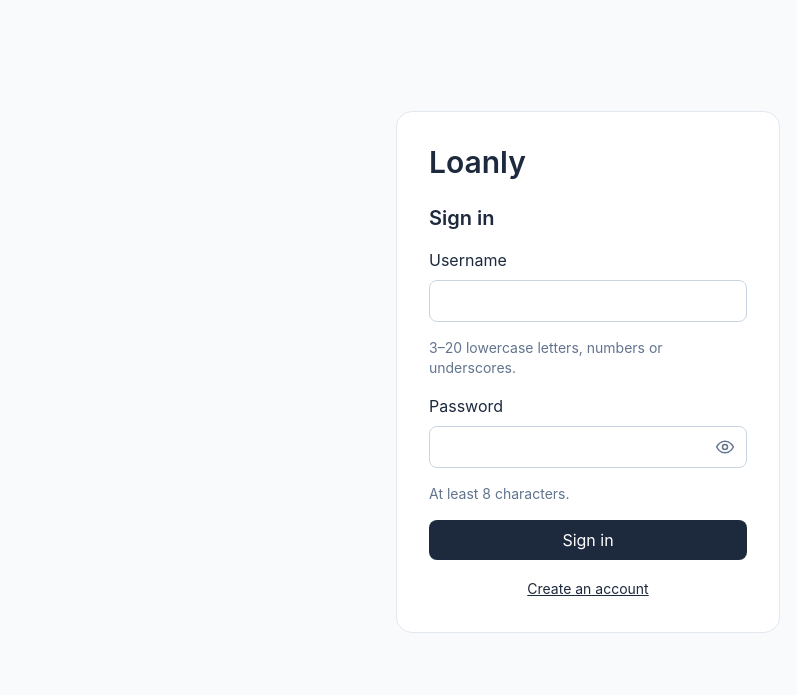
register uses its endpoint, masks passwords, and prevents duplicate submissions while pending
The image size is (797, 695).
Click the button "Create an account" at (588, 589), box [429, 579, 747, 599]
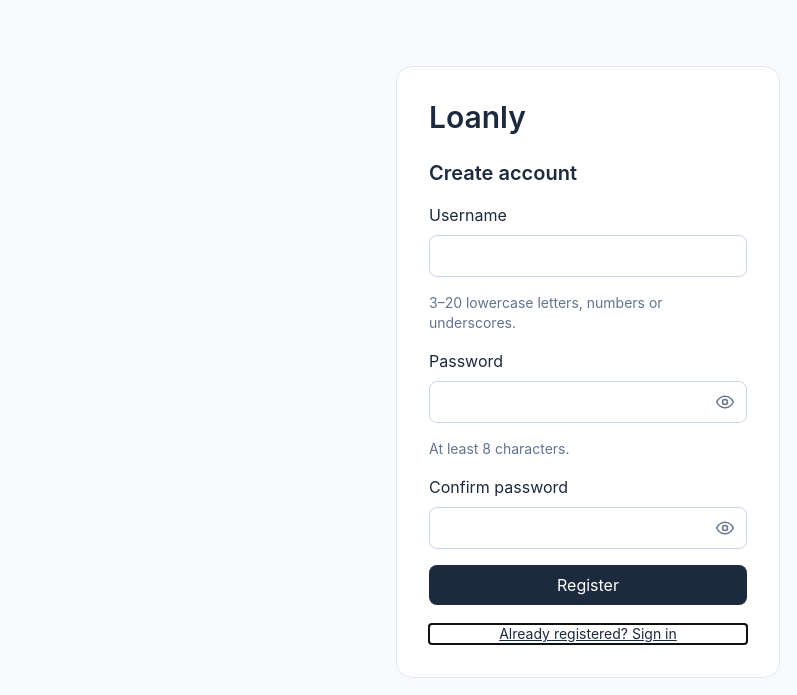
Type "alice" into the field labelled "Username" at (588, 256), box [429, 235, 747, 277]
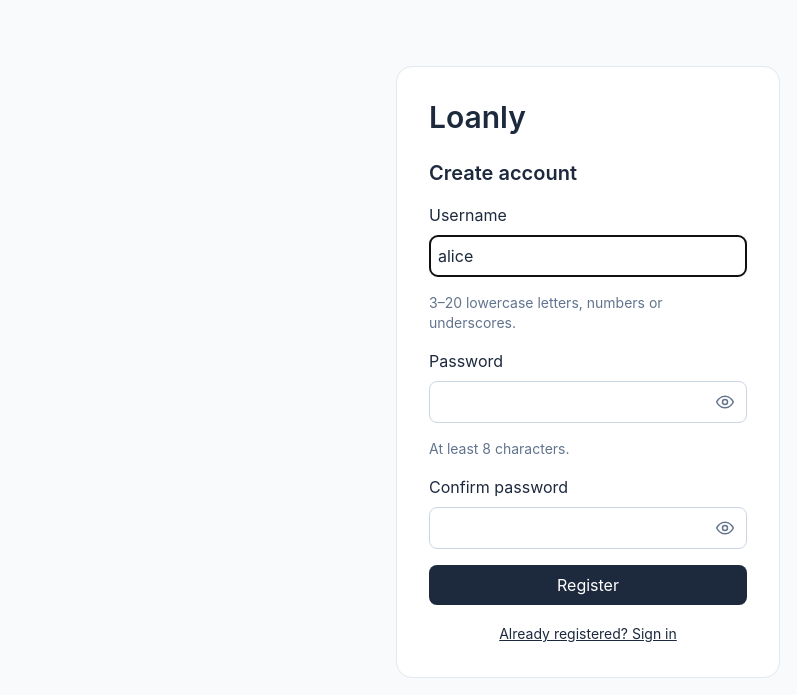
Type "correct password" into the password field labelled "Password" at (588, 402), box [429, 381, 747, 423]
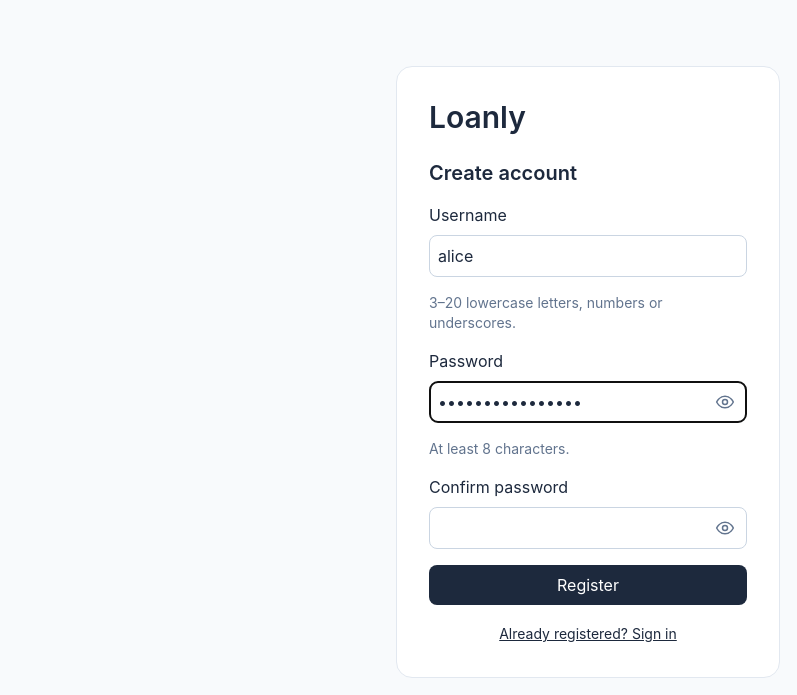
Type "correct password" into the password field labelled "Confirm password" at (588, 528), box [429, 507, 747, 549]
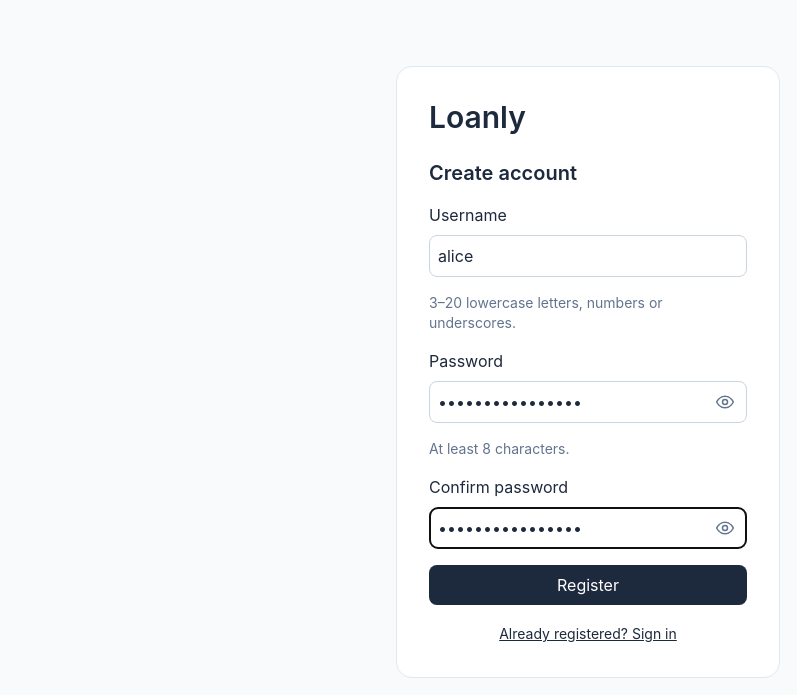
Click the button "Register" at (588, 585), box [429, 565, 747, 605]
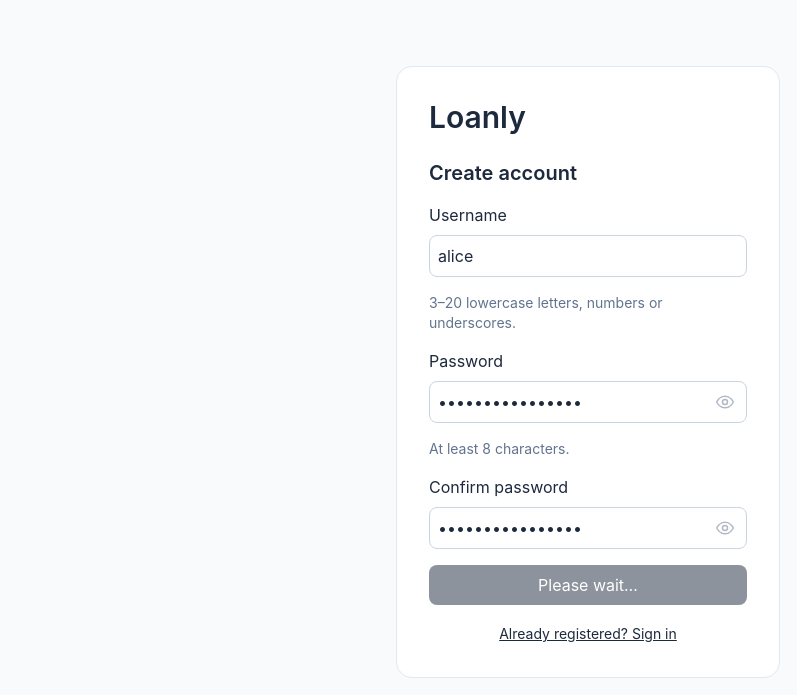
Check: the button "Please wait…" is disabled, box [429, 565, 747, 605]
Submit the form labelled "Password", box [429, 159, 747, 645]
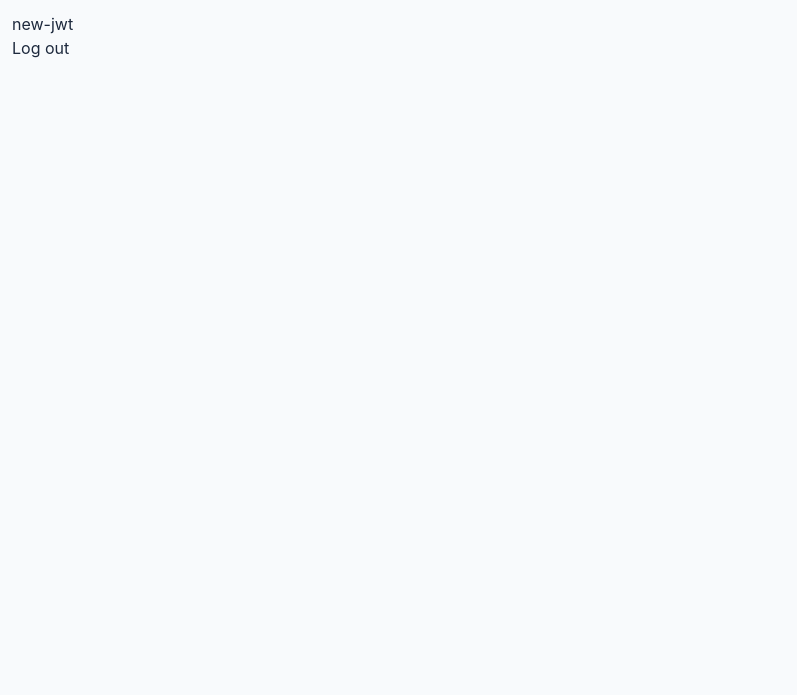
Check: the element named "Chat" is shown, box [12, 14, 73, 60]
